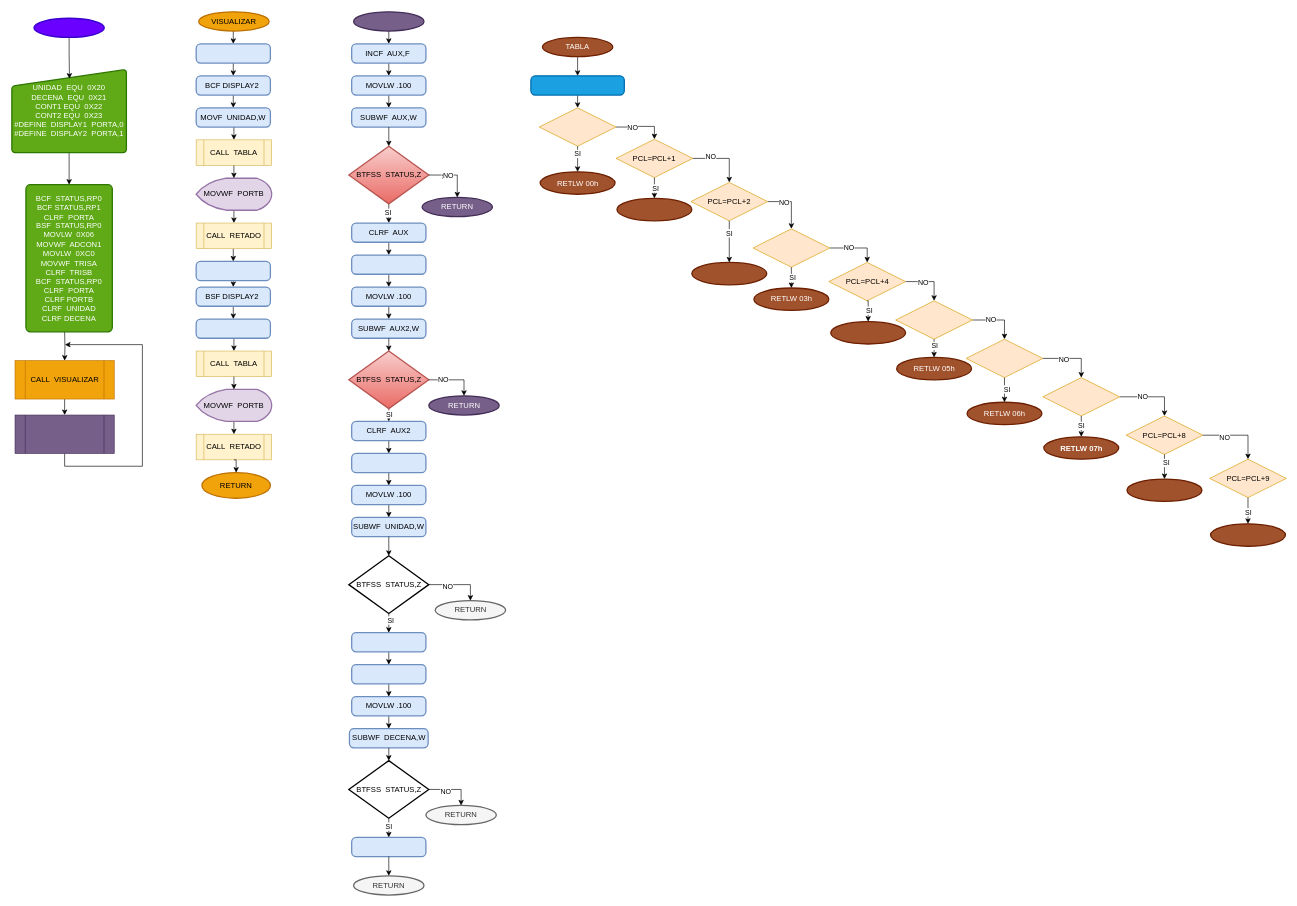
This 1297x906 diagram has some shape labels left out. The shapes that lost their labels are listed below. From the top down, each one's centre as x and y in pixels, then its label:
point (69, 27): INICIO
point (388, 21): INTERNO
point (233, 53): BSF DISPLAY1
point (577, 85): ADDWF PCL,F
point (577, 126): PCL=PCL+0
point (654, 209): RETLW 01h
point (388, 264): INCF AUX2,F
point (791, 247): PCL=PCL+3
point (233, 270): BCF DISPLAY1
point (729, 273): RETLW 02h
point (233, 328): MOVF DECENA,W
point (868, 332): RETLW 04h
point (933, 319): PCL=PCL+5
point (1004, 358): PCL=PCL+6
point (1081, 396): PCL=PCL+7
point (64, 433): CALL INTERNO
point (388, 462): INCF UNIDAD,F
point (1164, 490): RETLW 08h
point (1248, 535): RETLW 09h
point (388, 642): CLRF UNIDAD
point (388, 674): INCF DECENA,F
point (388, 846): CLRF DCENA
